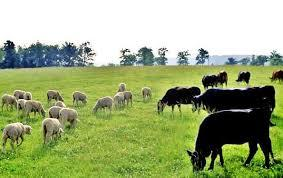cow: (186, 110, 275, 174), (190, 85, 276, 119), (156, 85, 202, 116), (200, 74, 219, 89), (201, 73, 218, 89), (235, 70, 251, 84), (268, 70, 283, 84), (218, 70, 229, 88)
